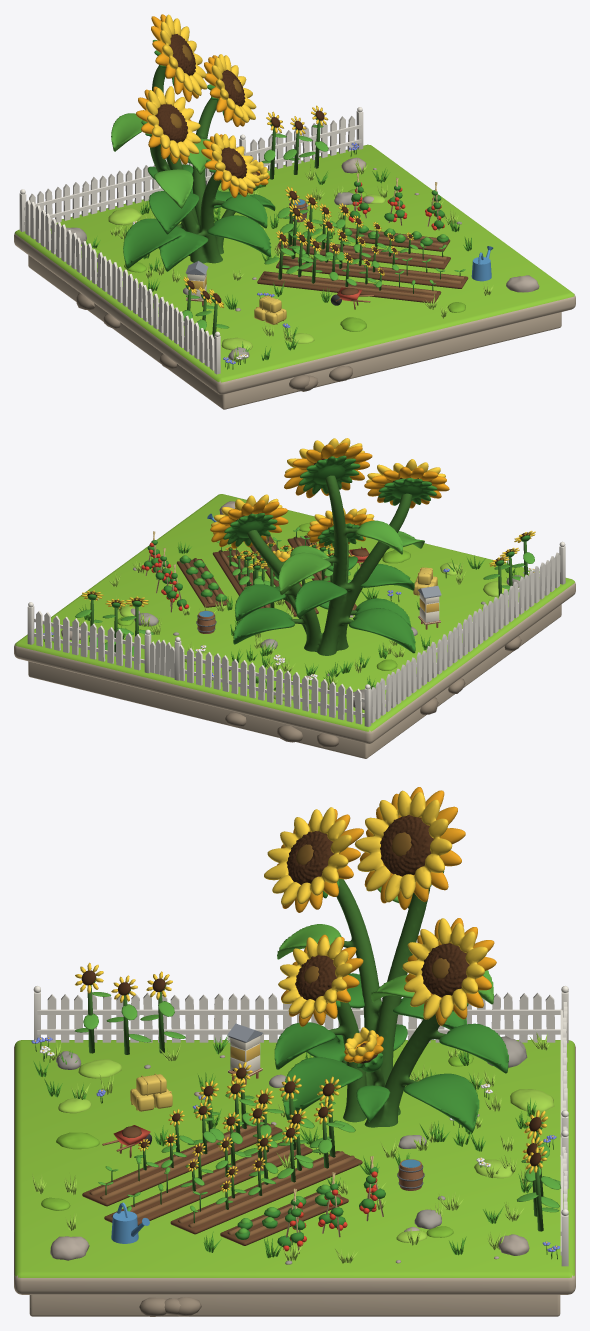
The model's file is sunflower.glb.
3 views of the same model, one above another, from view 1: azimuth 30°, elevation 25°; view 2: azimuth 150°, elevation 25°; view 3: azimuth 270°, elevation 25° (orthographic). The views are drawn at different scales.
Visible parts, largest first — view 1: Base, Blossoms, Fence, Seedlings, Beds, Grass, Trunk, Rocks, HayBales, Beehive, WateringCan; view 2: Base, Blossoms, Fence, Seedlings, Trunk, Grass, Beds, Rocks, Beehive, HayBales, RainBarrel; view 3: Base, Blossoms, Seedlings, Fence, Beds, Grass, Trunk, Rocks, Beehive, HayBales, WateringCan, Flowers (+2 smaller).
Boxes of the visible parts, x1,y1,x2,y2 form: Base: [14, 144, 575, 409]; Blossoms: [111, 14, 275, 271]; Fence: [19, 107, 363, 374]; Seedlings: [182, 105, 465, 338]; Beds: [257, 227, 468, 303]; Grass: [81, 158, 493, 362]; Trunk: [150, 65, 247, 263]; Rocks: [51, 157, 539, 360]; HayBales: [254, 296, 286, 324]; Beehive: [185, 261, 209, 305]; WateringCan: [471, 246, 493, 281]; Base: [14, 494, 575, 758]; Blossoms: [210, 438, 449, 653]; Fence: [27, 541, 565, 726]; Seedlings: [75, 527, 535, 655]; Trunk: [247, 475, 412, 655]; Grass: [78, 522, 531, 717]; Beds: [177, 535, 356, 616]; Rocks: [61, 501, 524, 709]; Beehive: [418, 585, 441, 629]; HayBales: [413, 567, 437, 595]; RainBarrel: [196, 610, 216, 633]; Base: [14, 1040, 575, 1316]; Blossoms: [264, 787, 508, 1131]; Seedlings: [74, 962, 560, 1253]; Fence: [33, 986, 568, 1266]; Beds: [82, 1119, 362, 1245]; Grass: [32, 1032, 554, 1263]; Trunk: [329, 878, 445, 1127]; Rocks: [50, 1036, 529, 1264]; Beehive: [227, 1023, 263, 1084]; HayBales: [130, 1073, 172, 1111]; WateringCan: [111, 1202, 149, 1243]; Flowers: [31, 1037, 560, 1259].
Size of the model in its own units: 72 by 50.47 by 72.
